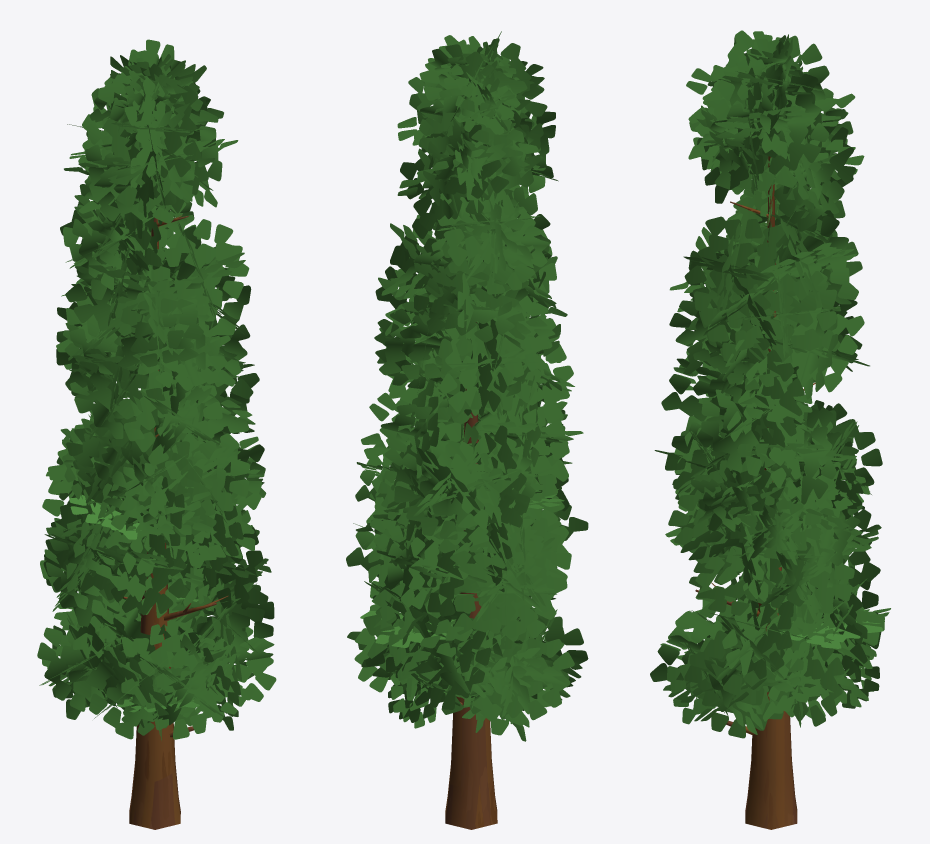
File: columnar_01.glb
3 views of the same model, side by side, from view 1: azimuth 30°, elevation 25°; view 2: azimuth 150°, elevation 25°; view 3: azimuth 270°, elevation 25° (orthographic).
Parts seen in each view (by area): view 1: columnar_01; view 2: columnar_01; view 3: columnar_01.
Part boxes in pixels (box(x1,y1,x2,y2)): columnar_01: box(37, 39, 276, 829); columnar_01: box(346, 31, 588, 829); columnar_01: box(650, 30, 890, 829).
Bounding box in the file's own units: 3.95 × 12.44 × 3.91.
2 materials, 2 textured.
